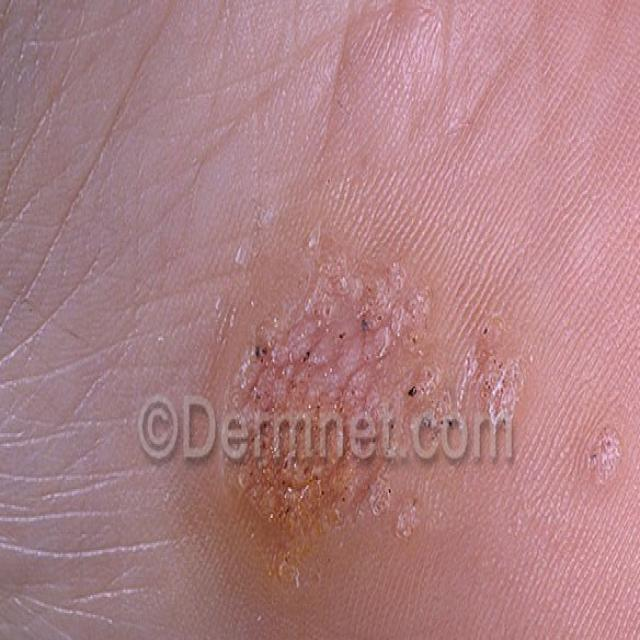Warts: (182, 252, 528, 580)
